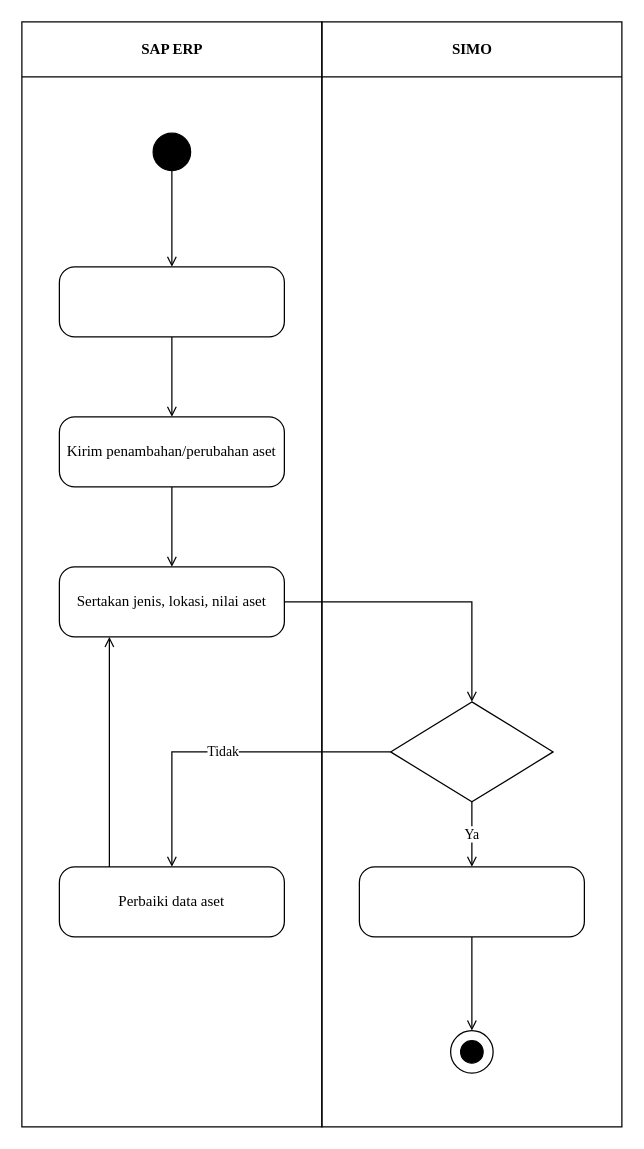
This 644x1149 diagram has some shape labels left out. Here are the shapes that lost their labels. From the top down, the centre of each, then its label:
point (171, 301): Sediakan data master aset
point (471, 751): Lengkap & unik?
point (471, 901): Simpan data aset
